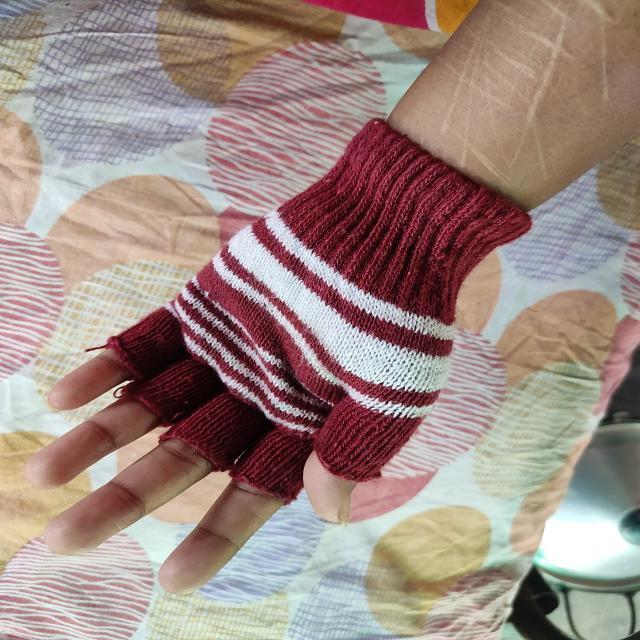gloved_hand: (100, 114, 544, 511)
